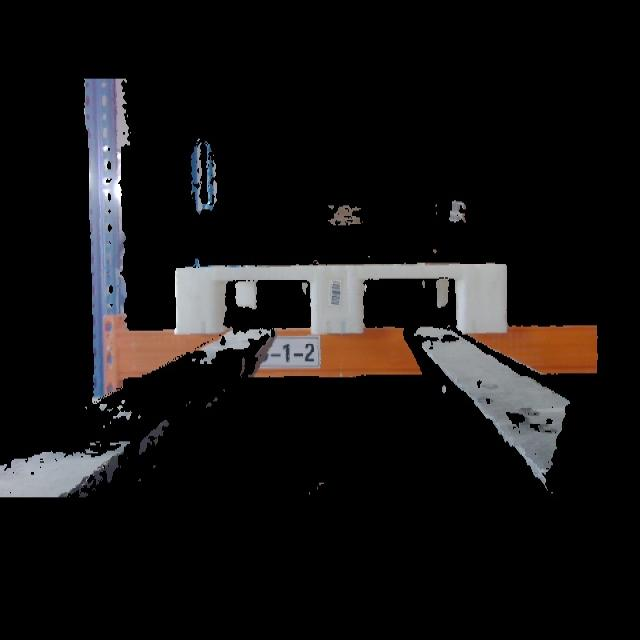block: (309, 269, 368, 336), (175, 266, 225, 336), (459, 267, 508, 332)
front: (173, 264, 510, 334)
